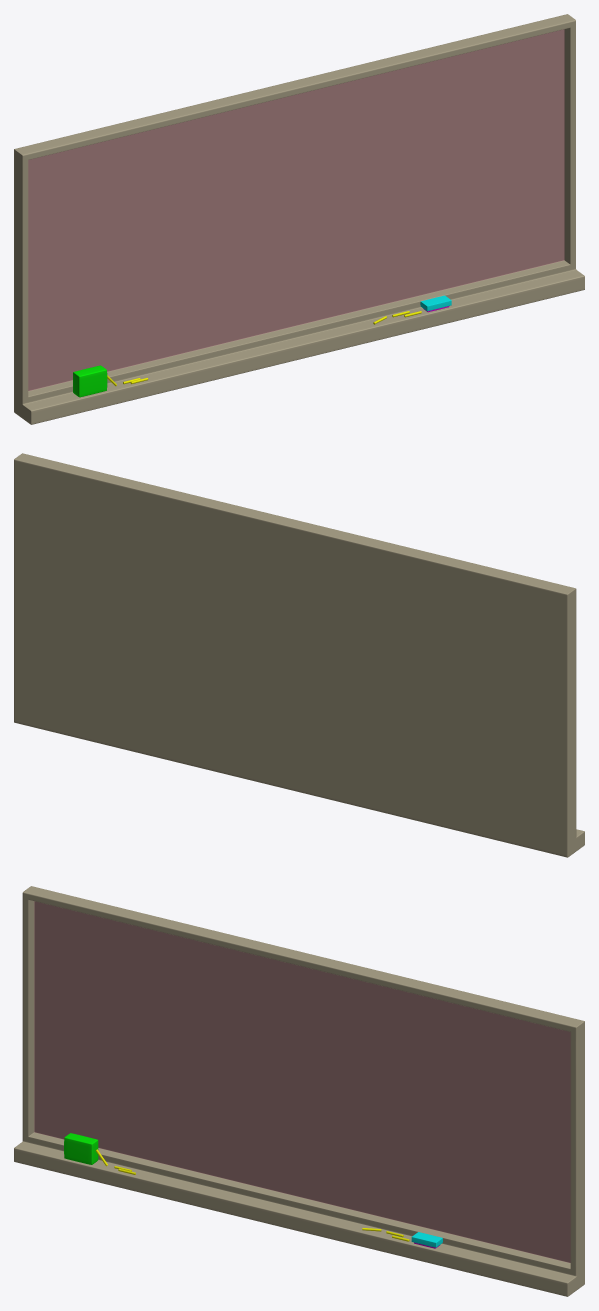
File: CAPSTN2_Chalkboard_001_High.fbx
3 views of the same model, one above another, from view 1: azimuth 30°, elevation 25°; view 2: azimuth 150°, elevation 25°; view 3: azimuth 330°, elevation 25° (orthographic).
Parts seen in each view (by area): view 1: Blackboard_High, Chalkbox_High; view 2: Blackboard_High; view 3: Blackboard_High, Chalkbox_High.
Boxes of the visible parts, bbox=[...] form: Blackboard_High: bbox=[14, 14, 584, 424]; Chalkbox_High: bbox=[73, 365, 107, 397]; Blackboard_High: bbox=[14, 453, 584, 857]; Blackboard_High: bbox=[14, 886, 584, 1296]; Chalkbox_High: bbox=[64, 1133, 98, 1164].
Bounding box in the file's own units: 11 × 5 × 0.6.
